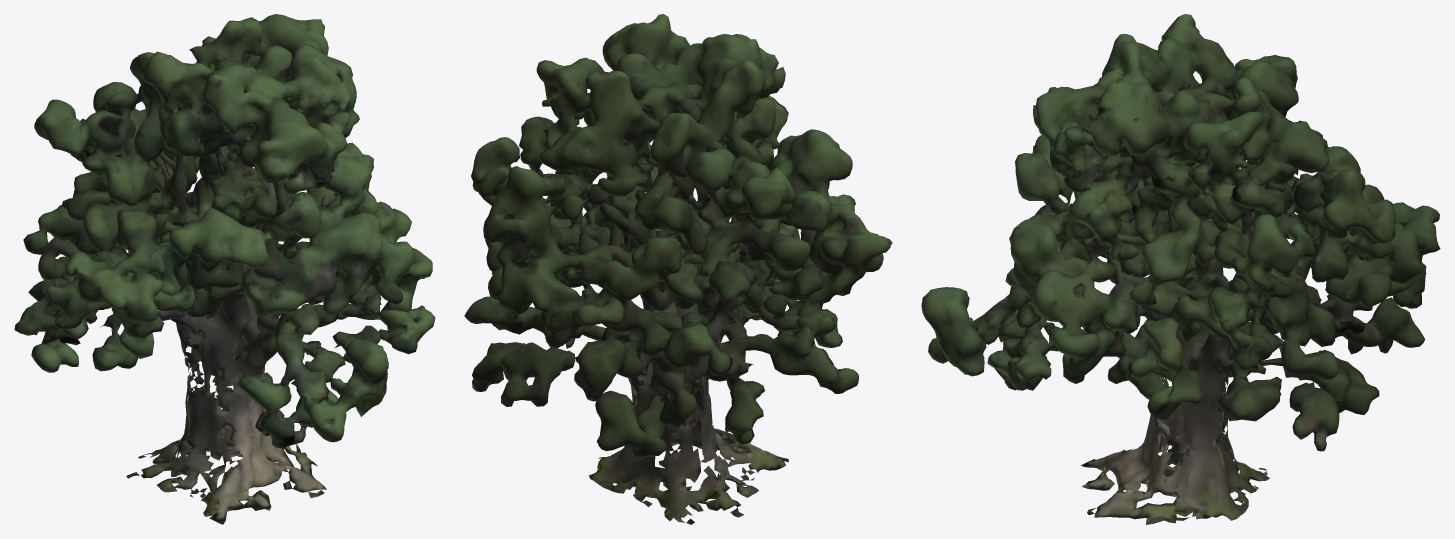
The model's file is tree_0424095402_refine.fbx.
The picture shows the model from 3 angles, left to right: view 1: azimuth 30°, elevation 25°; view 2: azimuth 150°, elevation 25°; view 3: azimuth 270°, elevation 25°; orthographic projection.
Parts seen in each view (by area): view 1: Mesh_0; view 2: Mesh_0; view 3: Mesh_0.
Boxes of the visible parts, <box> form: Mesh_0: <box>14,14,435,524</box>; Mesh_0: <box>464,14,892,524</box>; Mesh_0: <box>921,14,1440,524</box>.
Size of the model in its own units: 163 by 189 by 199.
Materials: 1 (1 with a texture image).
